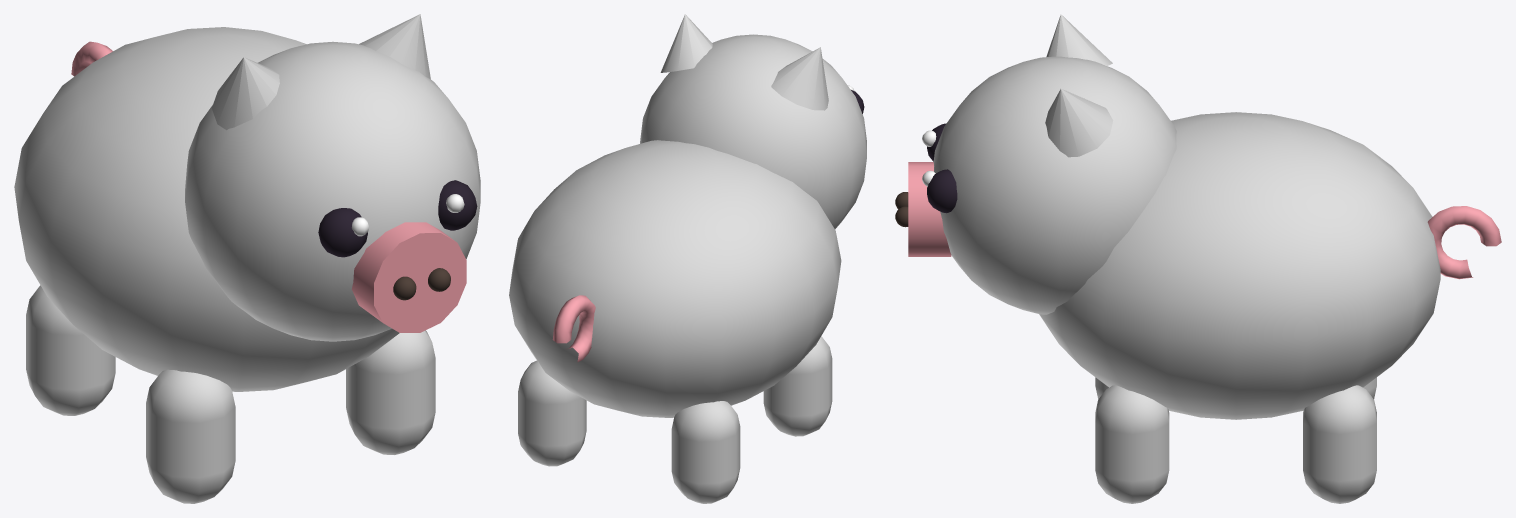
The model's file is pet_pig_ph.glb.
3 views of the same model, side by side, from view 1: azimuth 30°, elevation 25°; view 2: azimuth 150°, elevation 25°; view 3: azimuth 270°, elevation 25° (orthographic). The views are drawn at different scales.
Parts seen in each view (by area): view 1: pet_pig; view 2: pet_pig; view 3: pet_pig.
Part boxes in pixels (x1,y1,x2,y2): pet_pig: (14,14,480,503); pet_pig: (509,14,866,503); pet_pig: (895,14,1501,503).
Size of the model in its own units: 0.42 by 0.5188 by 0.701.
